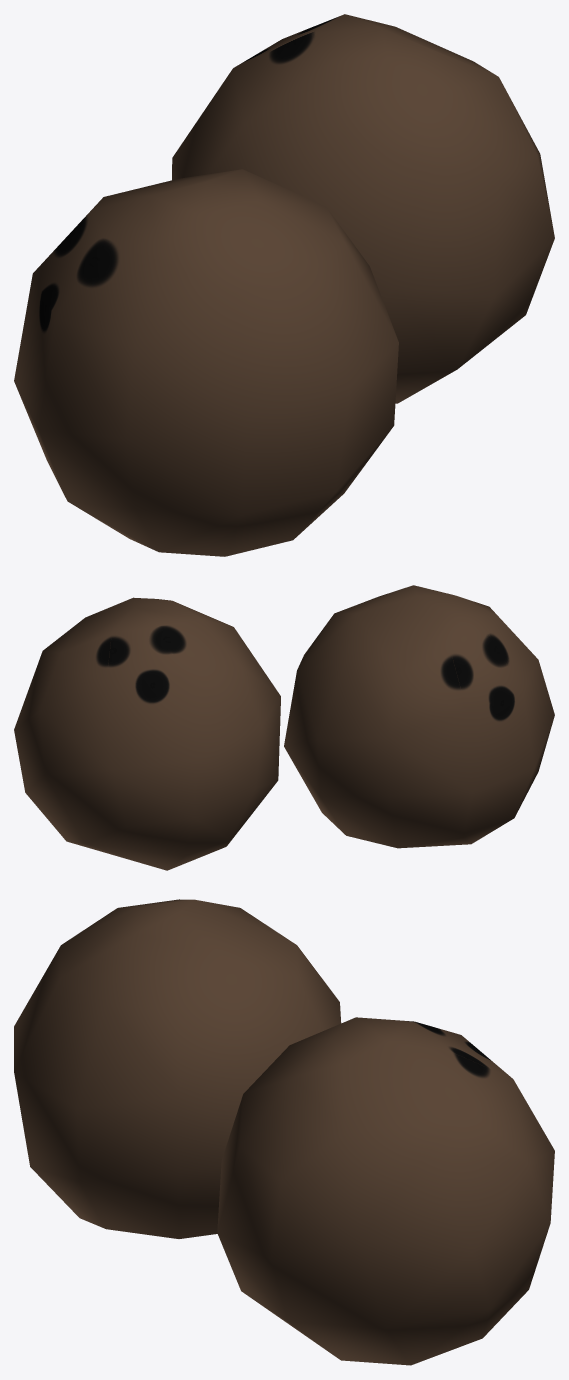
The model's file is cocos.obj.
The picture shows the model from 3 angles, top to bottom: view 1: azimuth 30°, elevation 25°; view 2: azimuth 150°, elevation 25°; view 3: azimuth 270°, elevation 25°; orthographic projection. The views are drawn at different scales.
Parts seen in each view (by area): view 1: cocos; view 2: cocos; view 3: cocos.
Boxes of the visible parts, x1,y1,x2,y2 form: cocos: (14, 14, 554, 556); cocos: (14, 585, 554, 870); cocos: (14, 899, 554, 1365).
Size of the model in its own units: 1.5 by 0.8559 by 1.3.
Materials: 1 (1 with a texture image).
